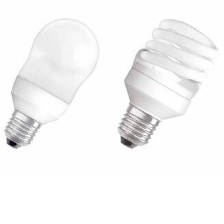light_bulb: (115, 16, 222, 156), (2, 13, 102, 154)
